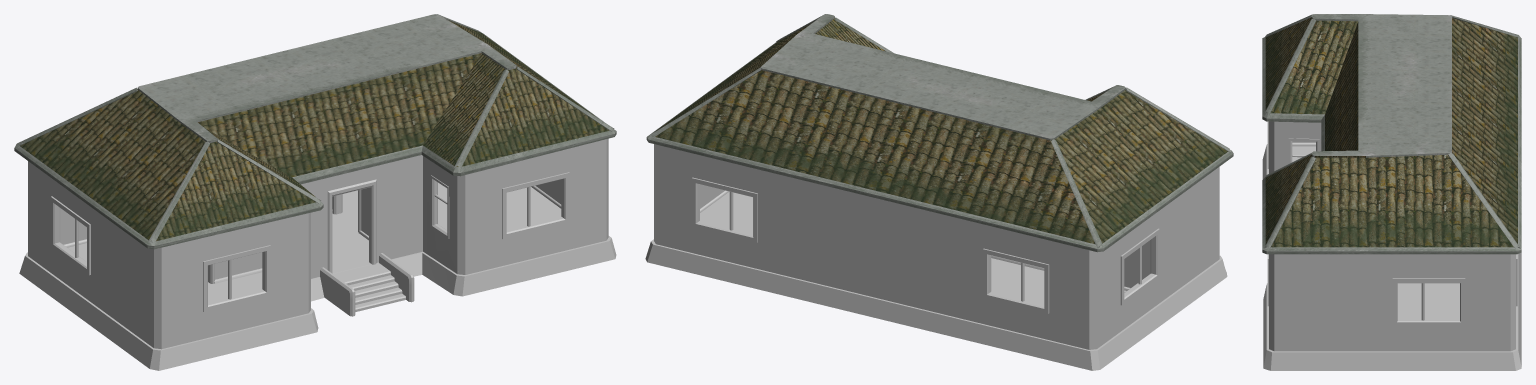
Rendered from House.fbx.
3 renders of one model, left to right at view 1: azimuth 30°, elevation 25°; view 2: azimuth 150°, elevation 25°; view 3: azimuth 270°, elevation 25°, orthographic. The views are drawn at different scales.
Parts seen in each view (by area): view 1: крыша, House, окна, Входной праём, входной праём 2; view 2: крыша, House, окна; view 3: крыша, House, окна.
Part boxes in pixels (bbox=[...]): крыша: bbox=[14, 14, 616, 249]; House: bbox=[19, 138, 616, 370]; окна: bbox=[50, 172, 569, 311]; Входной праём: bbox=[327, 179, 376, 273]; входной праём 2: bbox=[208, 189, 361, 283]; крыша: bbox=[646, 14, 1233, 252]; House: bbox=[645, 144, 1227, 370]; окна: bbox=[691, 177, 1159, 313]; крыша: bbox=[1262, 14, 1521, 254]; House: bbox=[1262, 121, 1521, 370]; окна: bbox=[1267, 121, 1517, 326].
Bounding box in the file's own units: 142 × 55.01 × 71.91.
